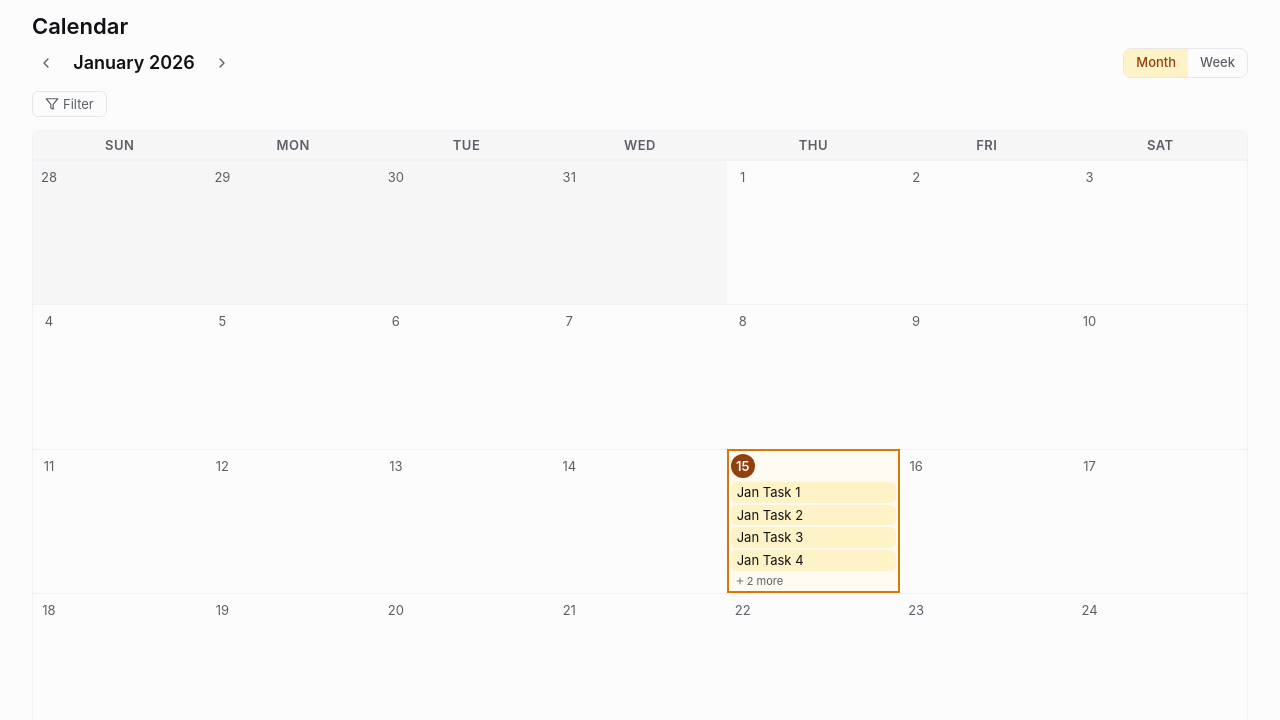
Test: DayDetailPopover via CalendarMonthView › popover title uses short month name "Jan" not "January" for January dates (issue #5 regression guard)
Click the button "2 more": (813, 581) x1=731 y1=573 x2=896 y2=589
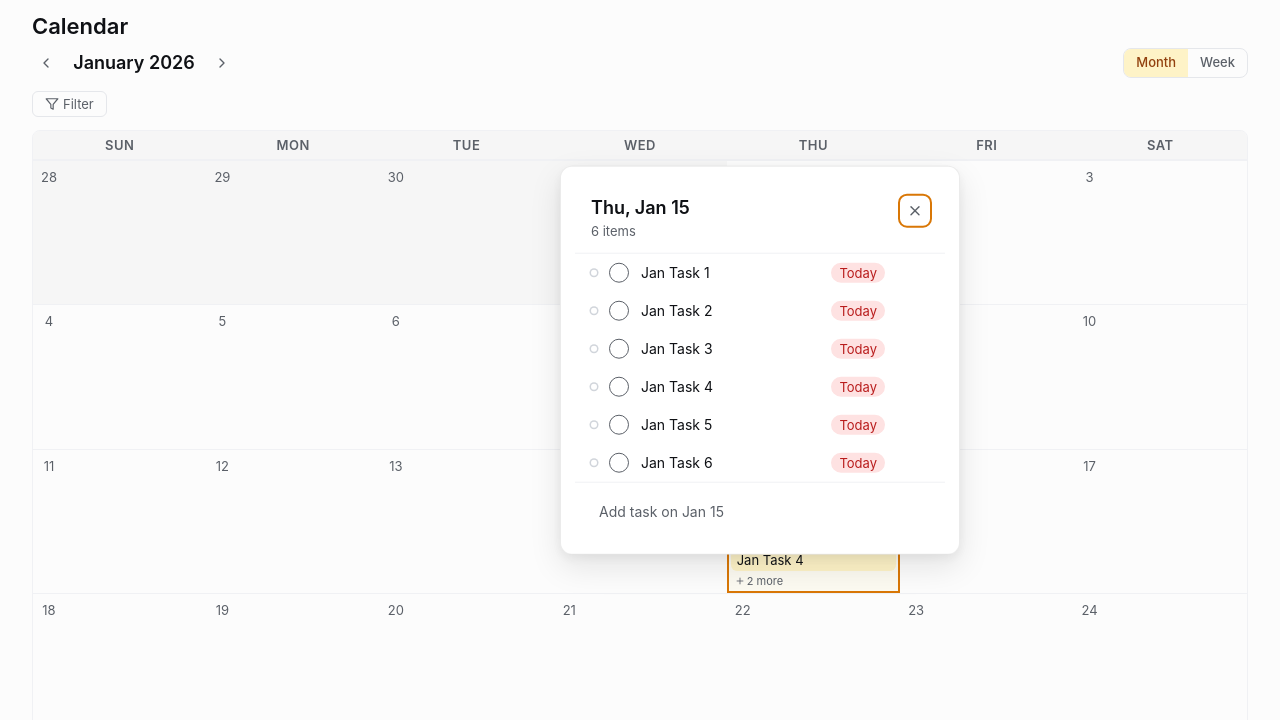
Result: the heading "Thu, Jan 15" is shown at x1=591 y1=197 x2=690 y2=218
